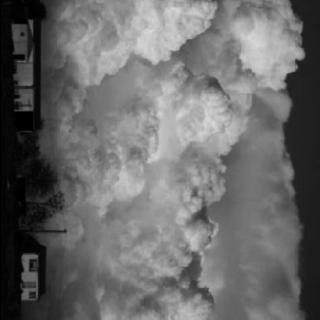Cumulonimbus: (41, 0, 314, 320)
